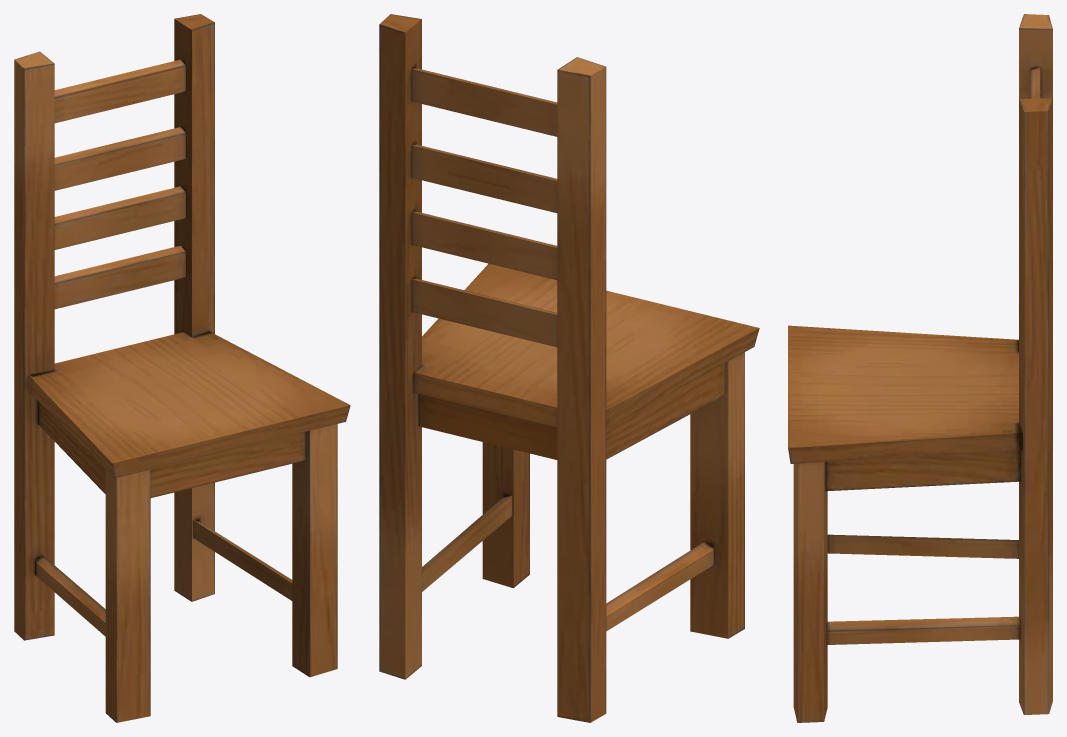
File: 13AL0KYItKD.glb
3 renders of one model, left to right at view 1: azimuth 30°, elevation 25°; view 2: azimuth 150°, elevation 25°; view 3: azimuth 270°, elevation 25°, orthographic. The views are drawn at different scales.
Parts seen in each view (by area): view 1: Chair_mesh; view 2: Chair_mesh; view 3: Chair_mesh.
Part boxes in pixels (bbox=[...]): Chair_mesh: bbox=[14, 14, 350, 722]; Chair_mesh: bbox=[379, 14, 759, 722]; Chair_mesh: bbox=[788, 14, 1052, 722].
Size of the model in its own units: 0.4363 by 1 by 0.3981.
Materials: 1 (1 with a texture image).
